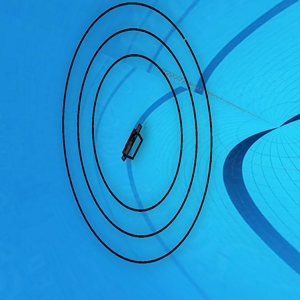circle: (55, 1, 220, 268)
submarine: (121, 125, 149, 161)
